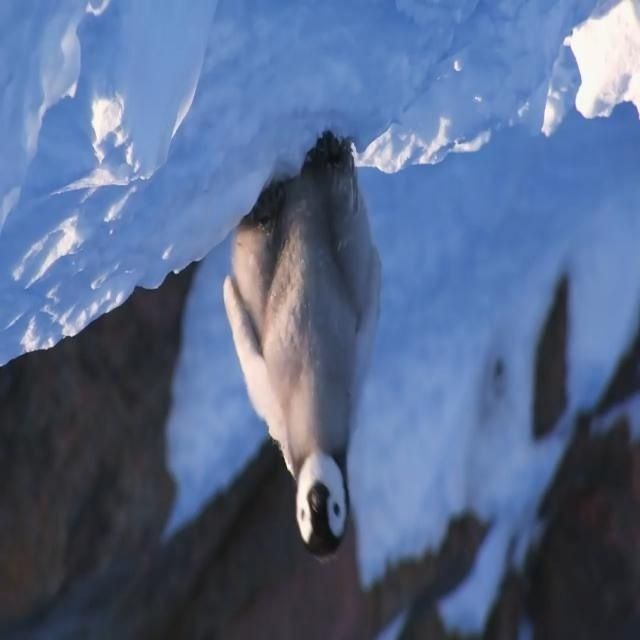penguin: (220, 130, 385, 563)
